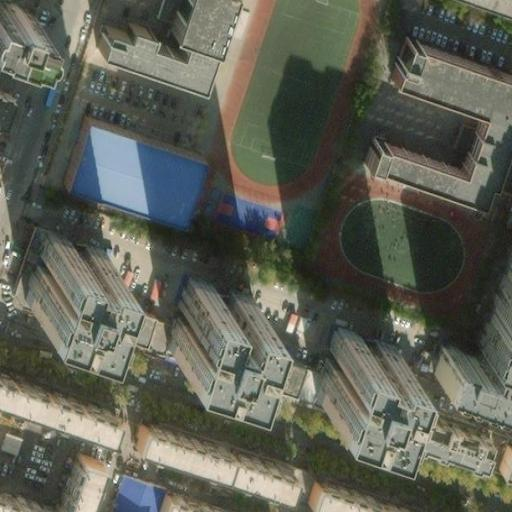building: (69, 287, 399, 431), (54, 106, 194, 210), (130, 414, 288, 489), (89, 0, 221, 74), (154, 271, 237, 361), (10, 228, 93, 317), (305, 326, 388, 415), (305, 476, 420, 512), (403, 404, 482, 456), (153, 483, 249, 512), (54, 446, 95, 512), (100, 465, 152, 512), (489, 436, 512, 469), (0, 91, 16, 129)
